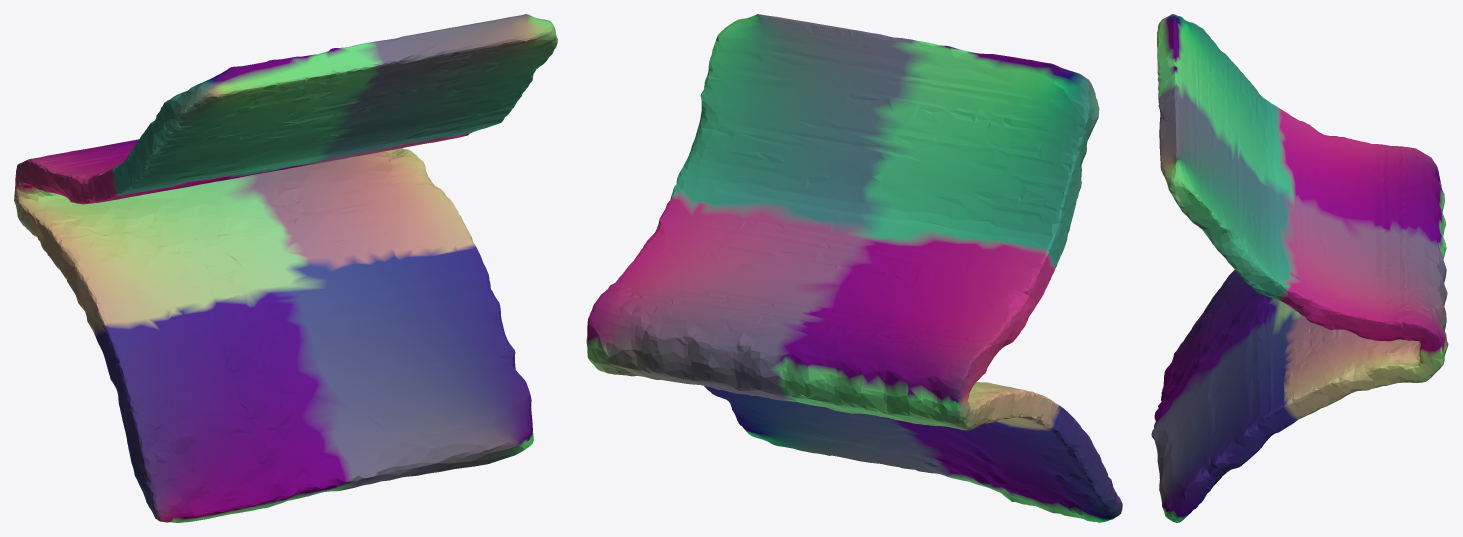
File: paper-7.off.obj
3 views of the same model, side by side, from view 1: azimuth 30°, elevation 25°; view 2: azimuth 150°, elevation 25°; view 3: azimuth 270°, elevation 25° (orthographic). The views are drawn at different scales.
Size of the model in its own units: 1.19 by 1.29 by 0.8997.
